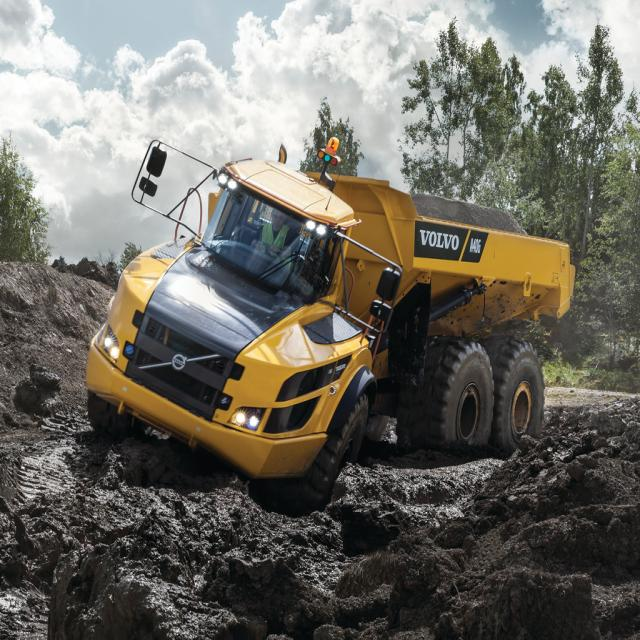dump_truck: (64, 120, 598, 502)
